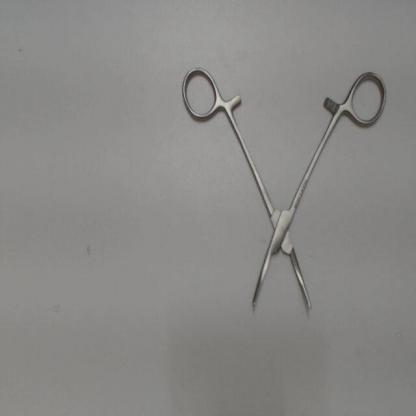Crile Artery Forceps: (170, 56, 389, 320)
